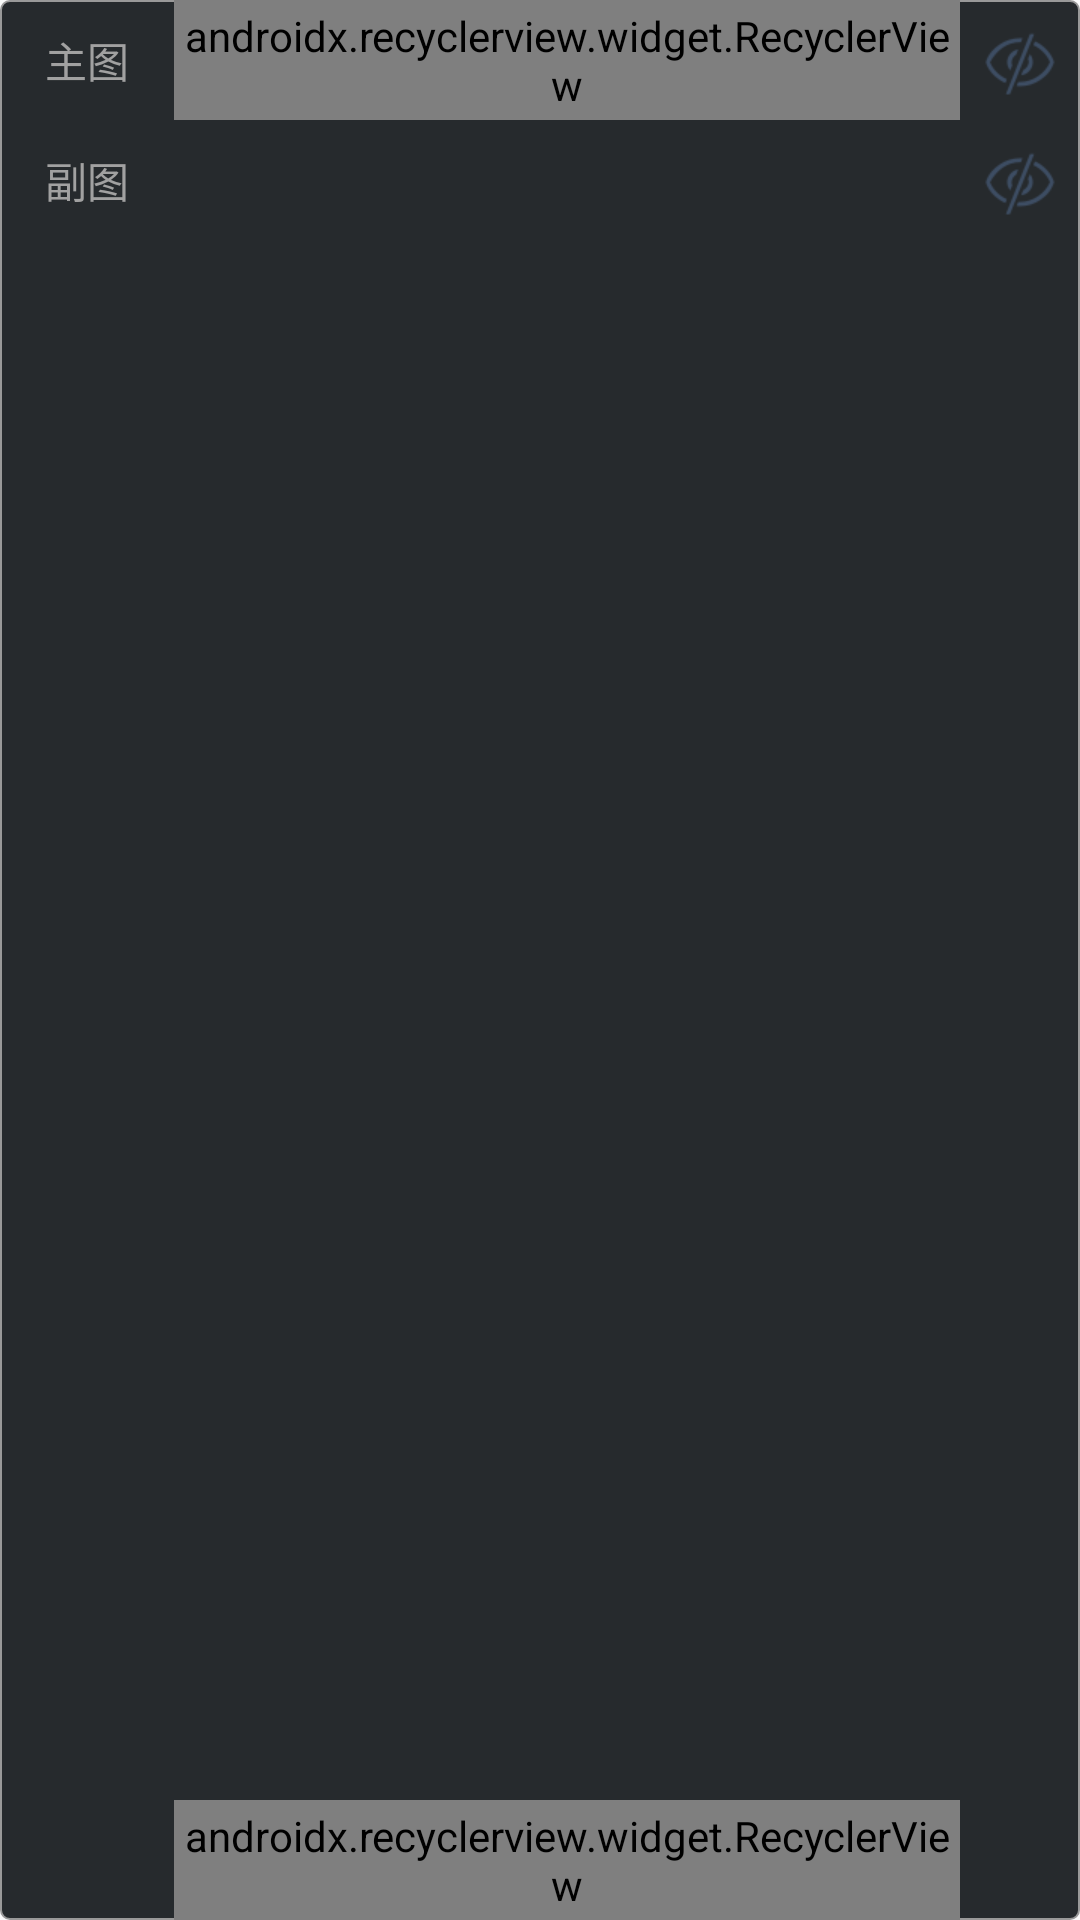

Screen size 1080 × 1920. Icon name, then its center in pixels as (x,y):
stock setting eye: (1020,60), (1020,184)
